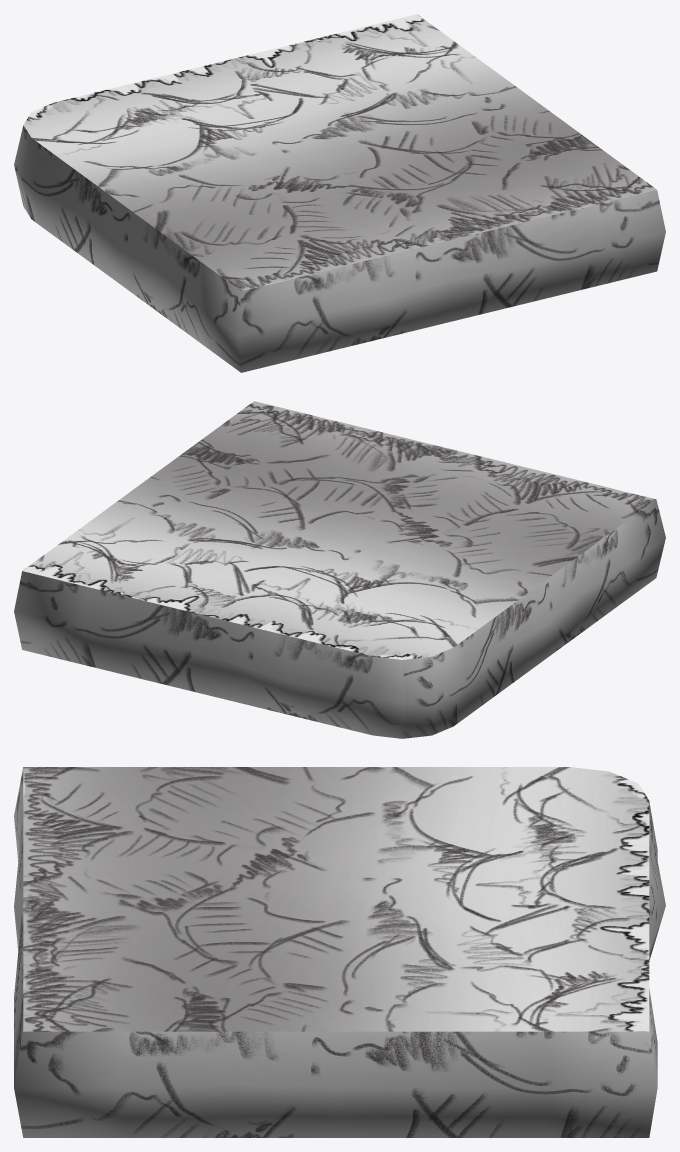
File: 16x16x3_Corner.fbx
3 views of the same model, one above another, from view 1: azimuth 30°, elevation 25°; view 2: azimuth 150°, elevation 25°; view 3: azimuth 270°, elevation 25° (orthographic). The views are drawn at different scales.
Parts seen in each view (by area): view 1: 16x16x3_CornerEffect; view 2: 16x16x3_CornerEffect; view 3: 16x16x3_CornerEffect.
Part boxes in pixels (x1,y1,x2,y2): 16x16x3_CornerEffect: [14, 14, 665, 372]; 16x16x3_CornerEffect: [14, 401, 665, 738]; 16x16x3_CornerEffect: [14, 767, 665, 1137].
Bounding box in the file's own units: 1667 × 303 × 1683.
